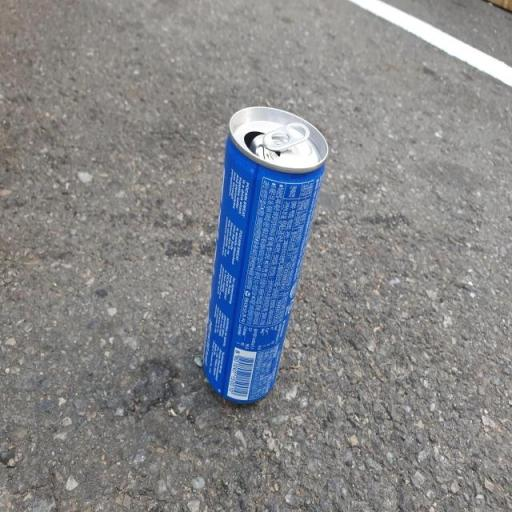metal: (196, 90, 334, 439)
